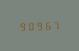nine: (18, 20, 25, 31), (34, 20, 41, 30)
seven: (50, 19, 57, 30)
six: (42, 19, 49, 30)
zero: (26, 20, 33, 31)
